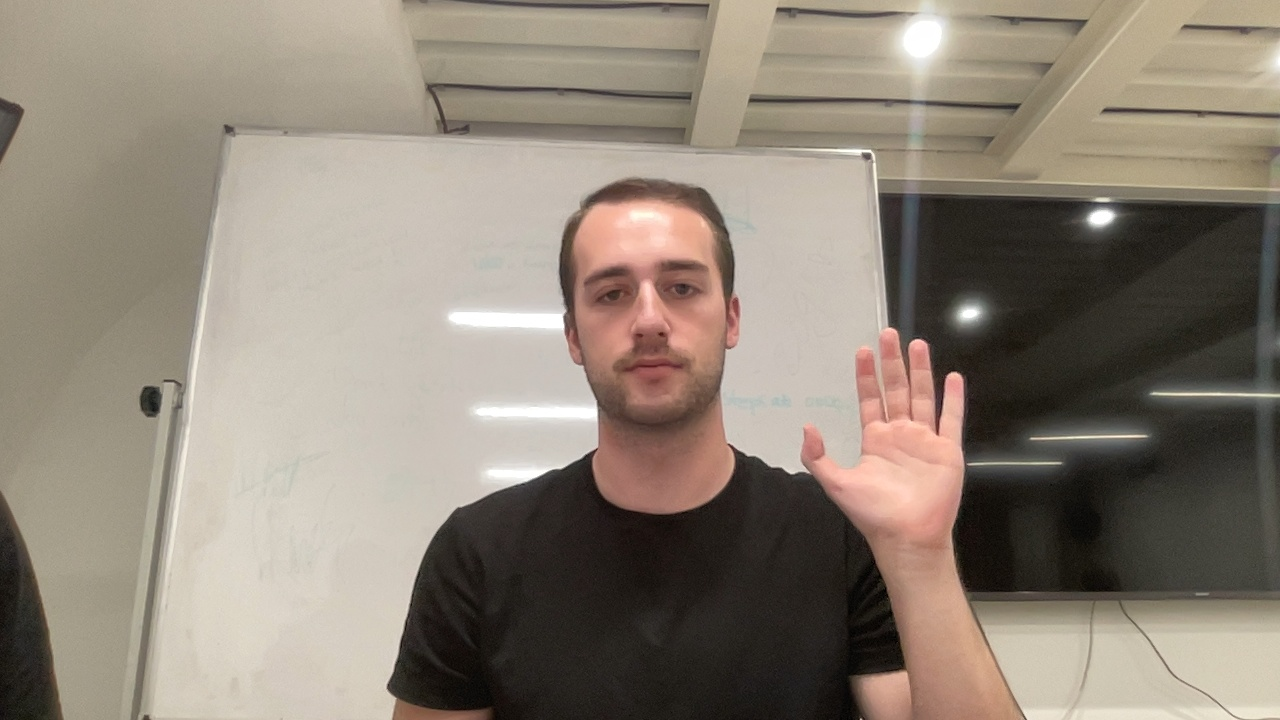Hello: (797, 325, 969, 558)
